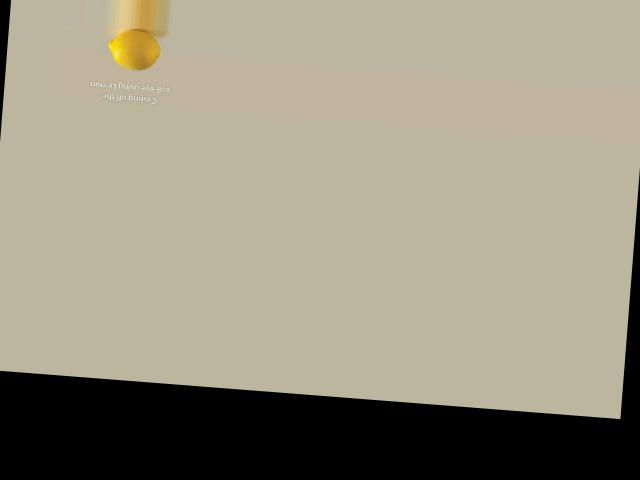lemon: (106, 30, 163, 74)
